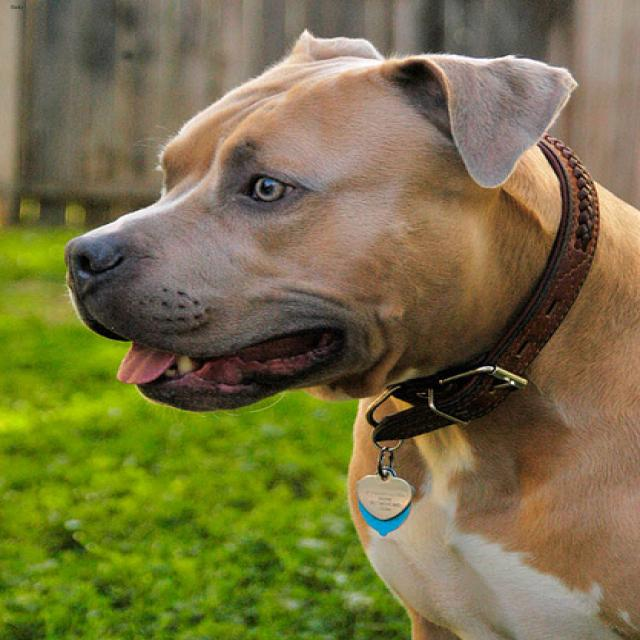dog-american_pit_bull_terrier: (51, 22, 637, 637)
